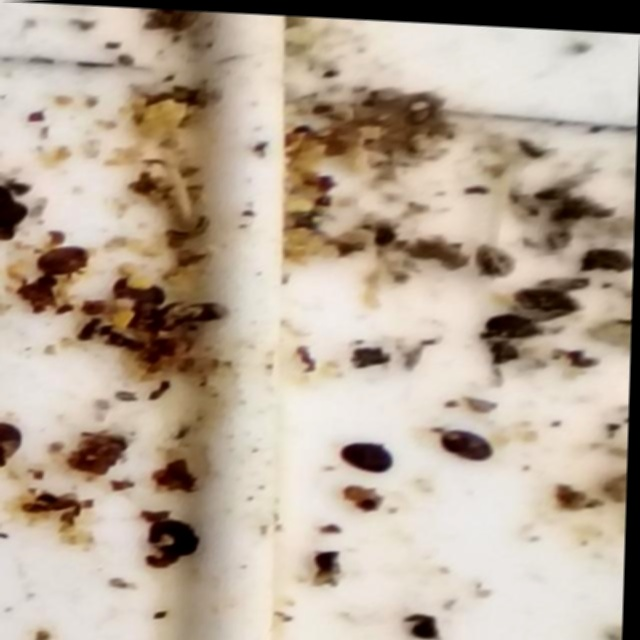varroa: (443, 418, 504, 457), (340, 435, 401, 472), (517, 279, 584, 311), (487, 307, 551, 337)
